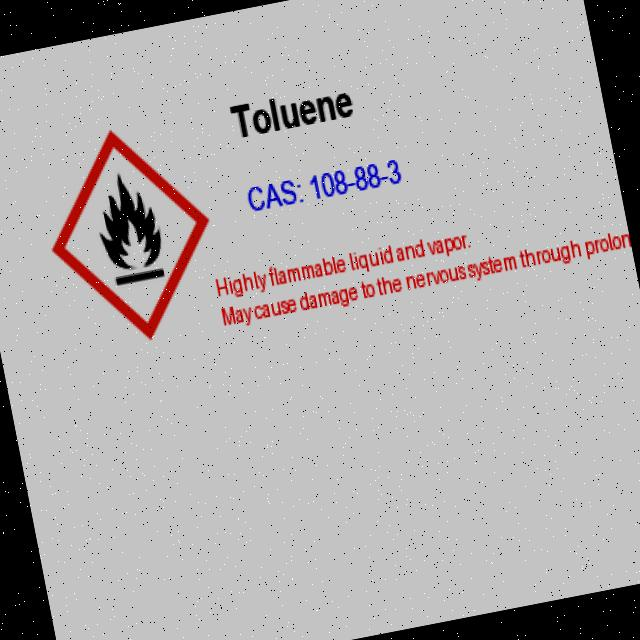cas number: (233, 148, 412, 234)
chemical name: (224, 66, 365, 156)
flammable: (35, 115, 218, 374)
warning text: (204, 194, 638, 366)
